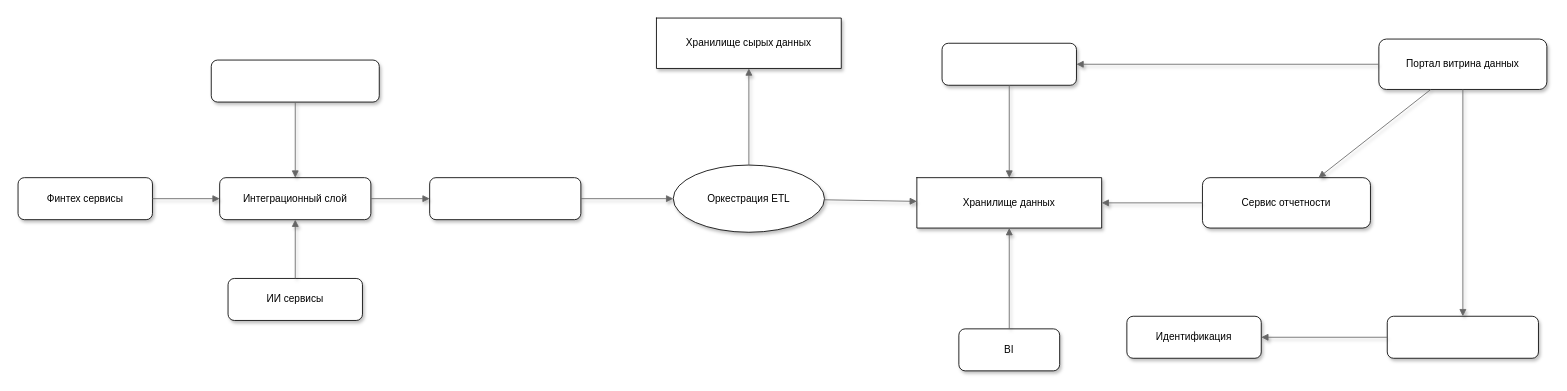
This 1567x391 diagram has some shape labels left out. The centre of each missing label's shape, as x and y in pixels:
"Каталог данных" belongs at (1010,65).
"Клинические приложения" belongs at (295,82).
"Платформа потоков" belongs at (505,199).
"Управление доступом" belongs at (1463,338).
